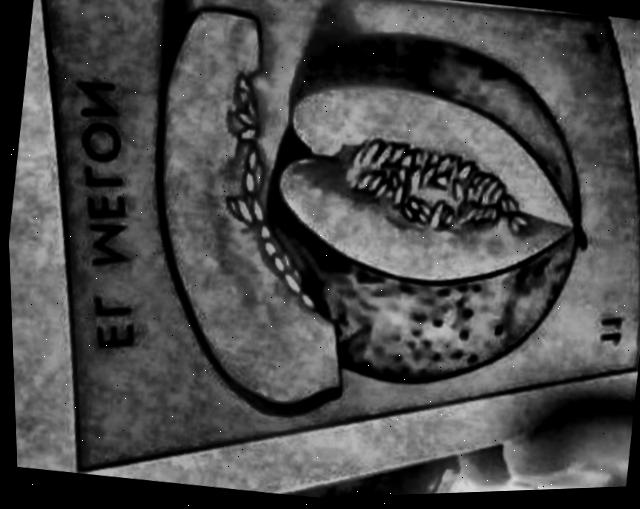El Melon: (45, 0, 633, 467)
